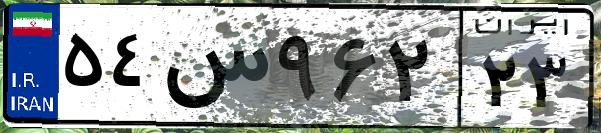2: (385, 28, 445, 110), (475, 38, 525, 113)
3: (525, 38, 570, 115)
4: (110, 28, 158, 98)
5: (57, 26, 110, 100)
6: (330, 28, 385, 110)
9: (270, 28, 330, 110)
س: (158, 20, 270, 120)
